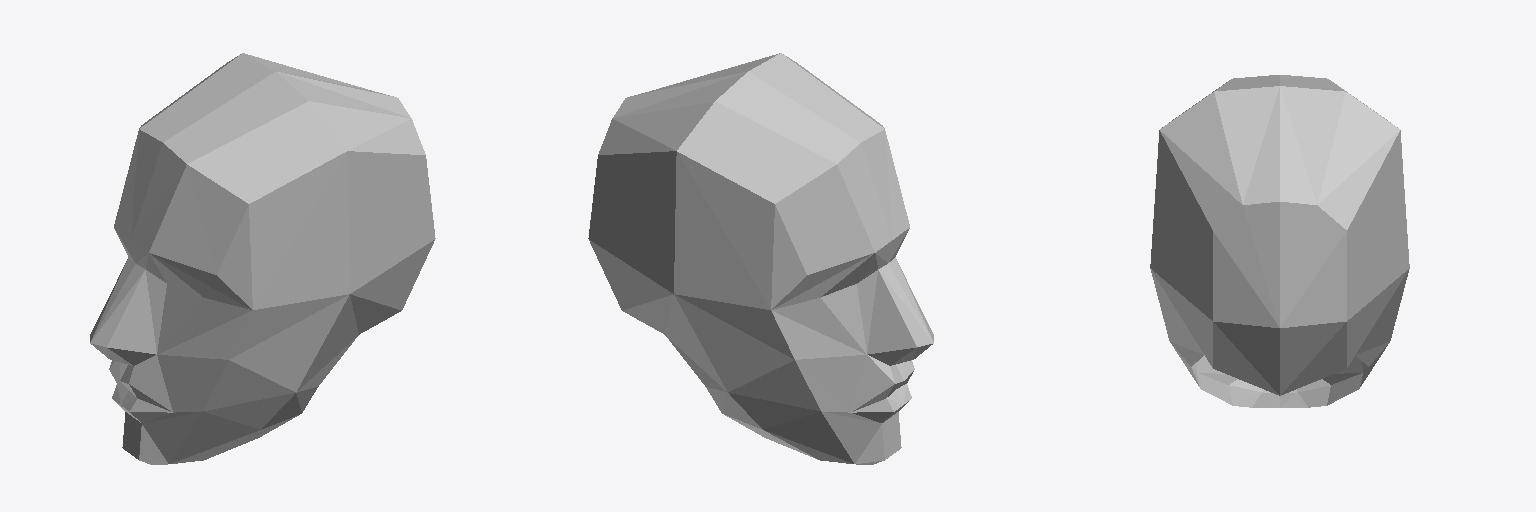
File: simpleSingleMesh2.obj
3 renders of one model, left to right at view 1: azimuth 30°, elevation 25°; view 2: azimuth 150°, elevation 25°; view 3: azimuth 270°, elevation 25°, orthographic.
Visible parts, largest first — view 1: Plane.011_Plane.022; view 2: Plane.011_Plane.022; view 3: Plane.011_Plane.022.
Boxes of the visible parts, box(x1,y1,x2,y2) form: Plane.011_Plane.022: box(90, 53, 435, 464); Plane.011_Plane.022: box(588, 53, 933, 464); Plane.011_Plane.022: box(1150, 75, 1409, 407).
Size of the model in its own units: 3.99 by 4.13 by 2.7.